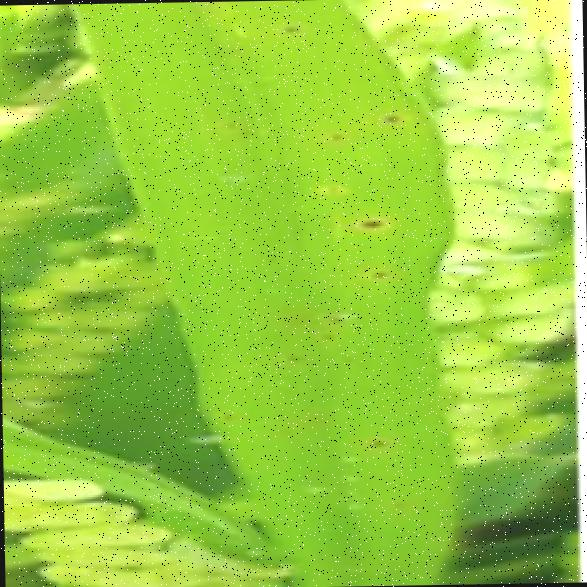Brown_Spot: (311, 172, 350, 200), (379, 491, 415, 521), (351, 208, 390, 234), (270, 14, 306, 38), (359, 258, 393, 282), (319, 122, 352, 146), (331, 345, 362, 369), (276, 342, 306, 366), (374, 104, 406, 126), (319, 304, 347, 328), (362, 428, 392, 450), (215, 400, 239, 426), (305, 406, 333, 428), (258, 247, 284, 269), (314, 320, 336, 344), (274, 420, 296, 440), (231, 122, 258, 138), (220, 36, 241, 56), (216, 114, 238, 132), (268, 156, 292, 172), (272, 146, 288, 160)
